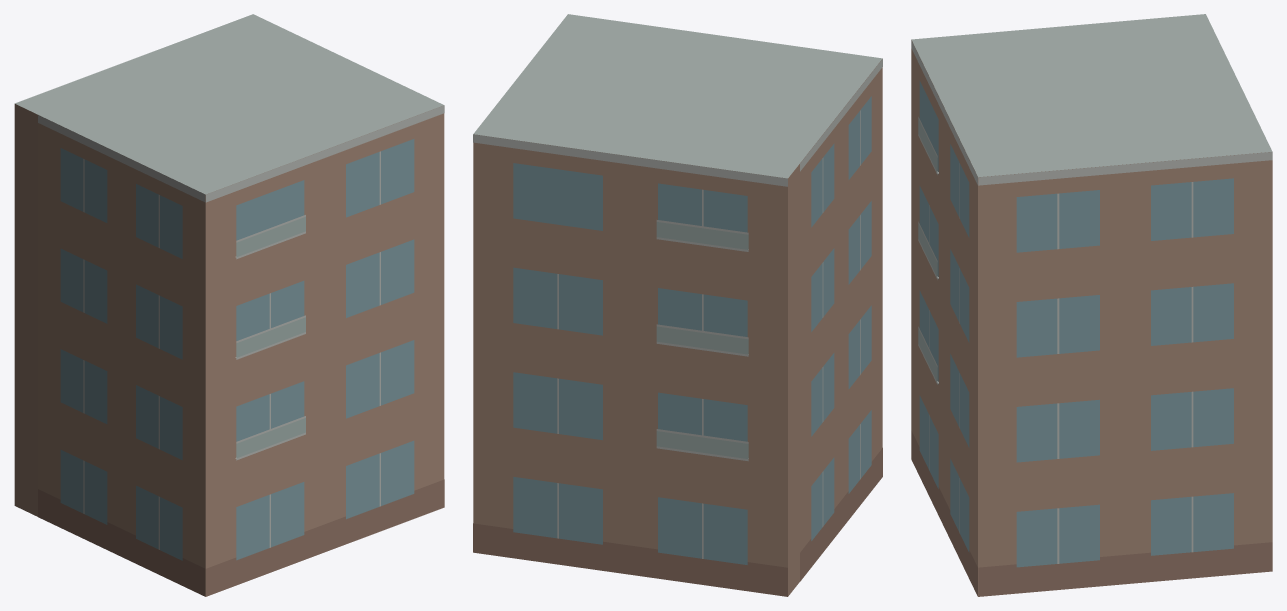
Rendered from residential-ac4f060b-c119-4908-b68f-3b24584ae1fe.glb.
3 views of the same model, side by side, from view 1: azimuth 30°, elevation 25°; view 2: azimuth 150°, elevation 25°; view 3: azimuth 270°, elevation 25° (orthographic). The views are drawn at different scales.
Visible parts, largest first — view 1: residential-ac4f060b-c119-4908-b68f-3b24584ae1fe.tmp; view 2: residential-ac4f060b-c119-4908-b68f-3b24584ae1fe.tmp; view 3: residential-ac4f060b-c119-4908-b68f-3b24584ae1fe.tmp.
Boxes of the visible parts, <box> form: residential-ac4f060b-c119-4908-b68f-3b24584ae1fe.tmp: <box>14,14,444,596</box>; residential-ac4f060b-c119-4908-b68f-3b24584ae1fe.tmp: <box>473,14,882,596</box>; residential-ac4f060b-c119-4908-b68f-3b24584ae1fe.tmp: <box>911,14,1272,596</box>.
Size of the model in its own units: 10.19 by 12.2 by 9.53.
